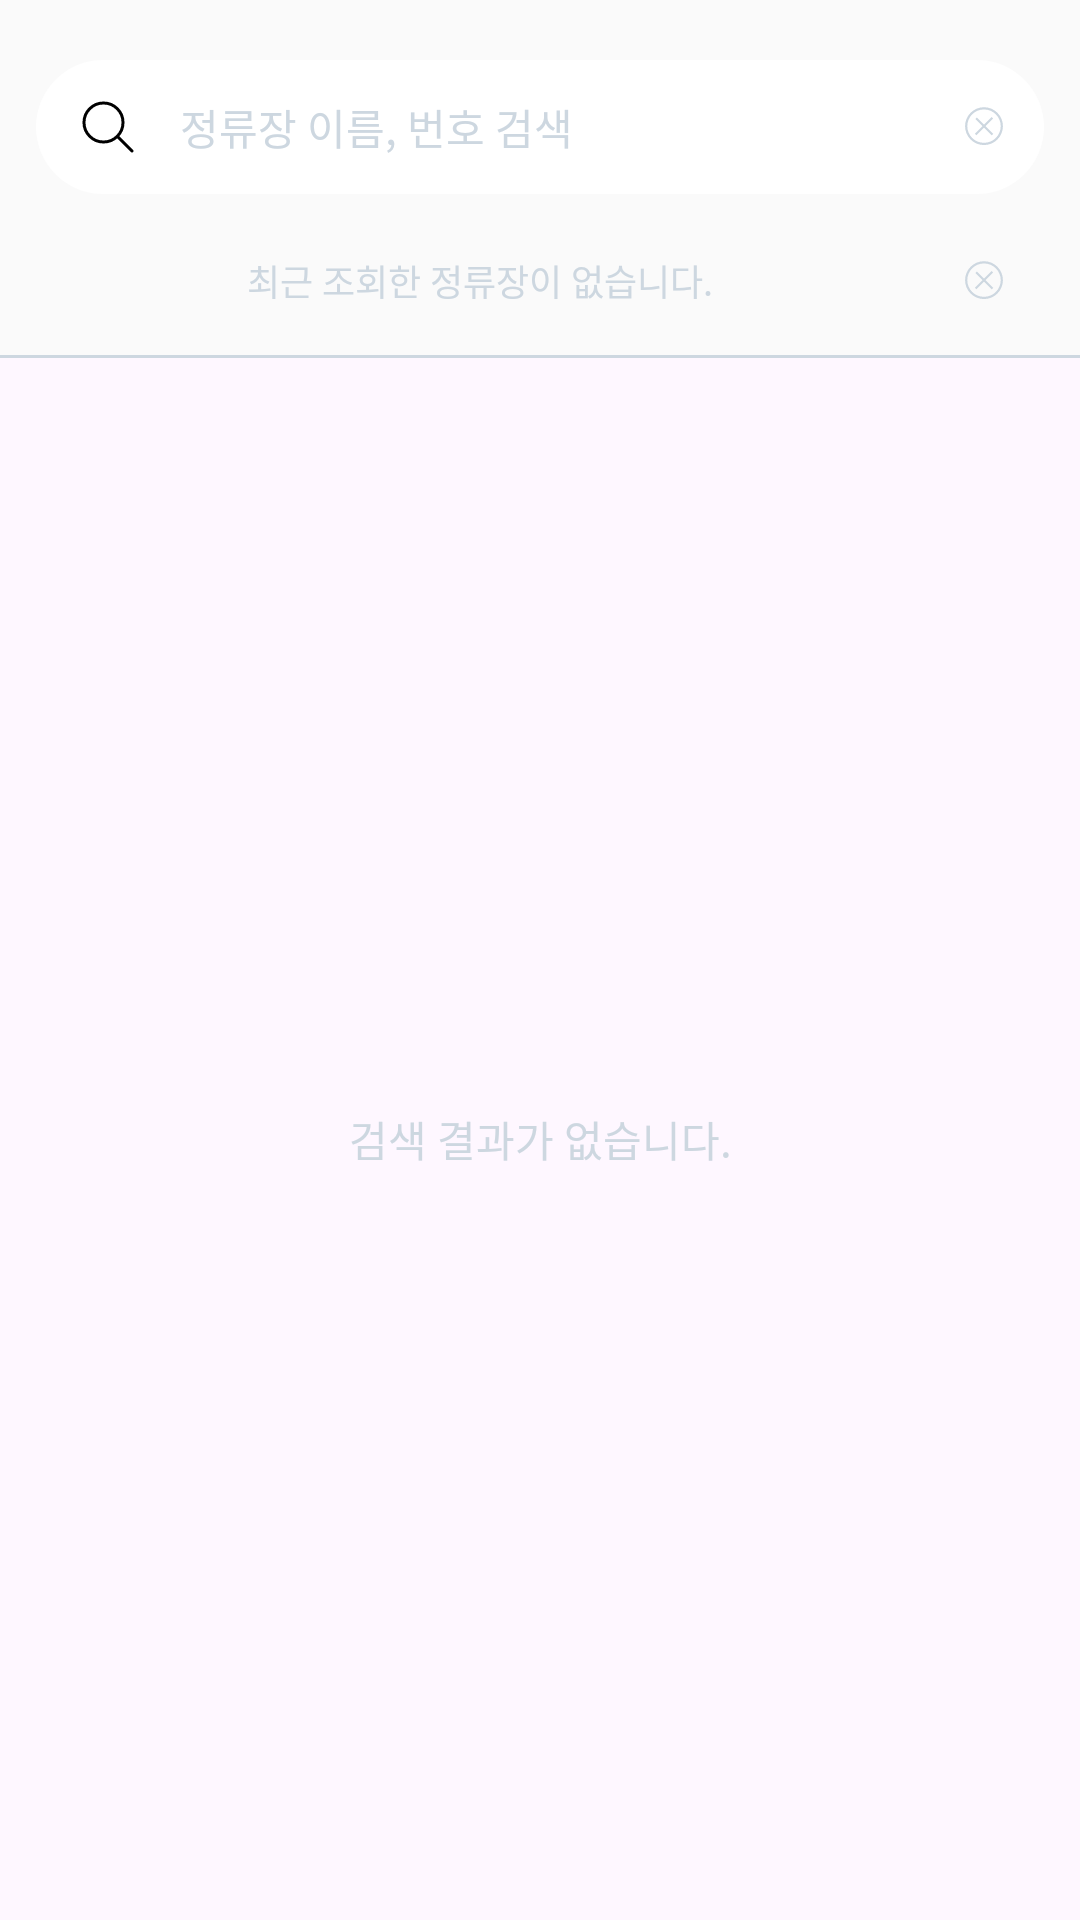

Screen size 1080*1920. Icon name, then its box in pixels as (x1, y1, x2, y2):
delete rounded: (965, 107, 1003, 145), (965, 261, 1003, 299)
search: (82, 101, 134, 153)
